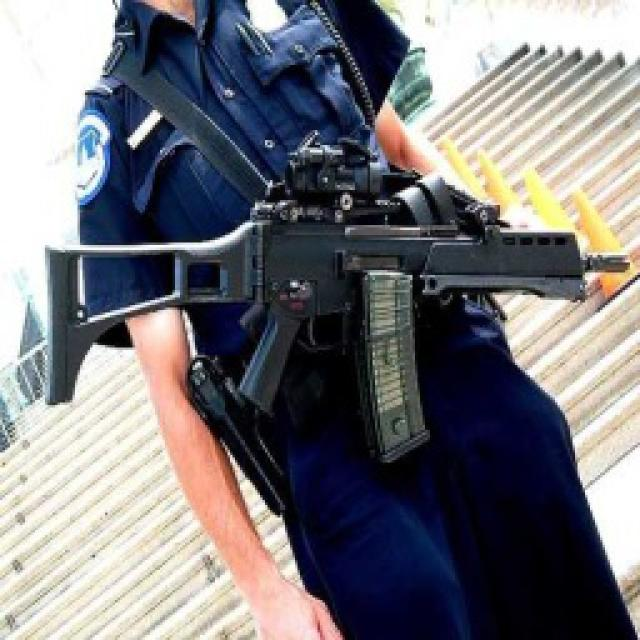long weapon: (24, 164, 602, 417)
